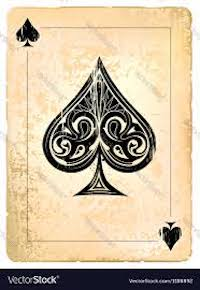AceOfSpades: (1, 2, 195, 266)
